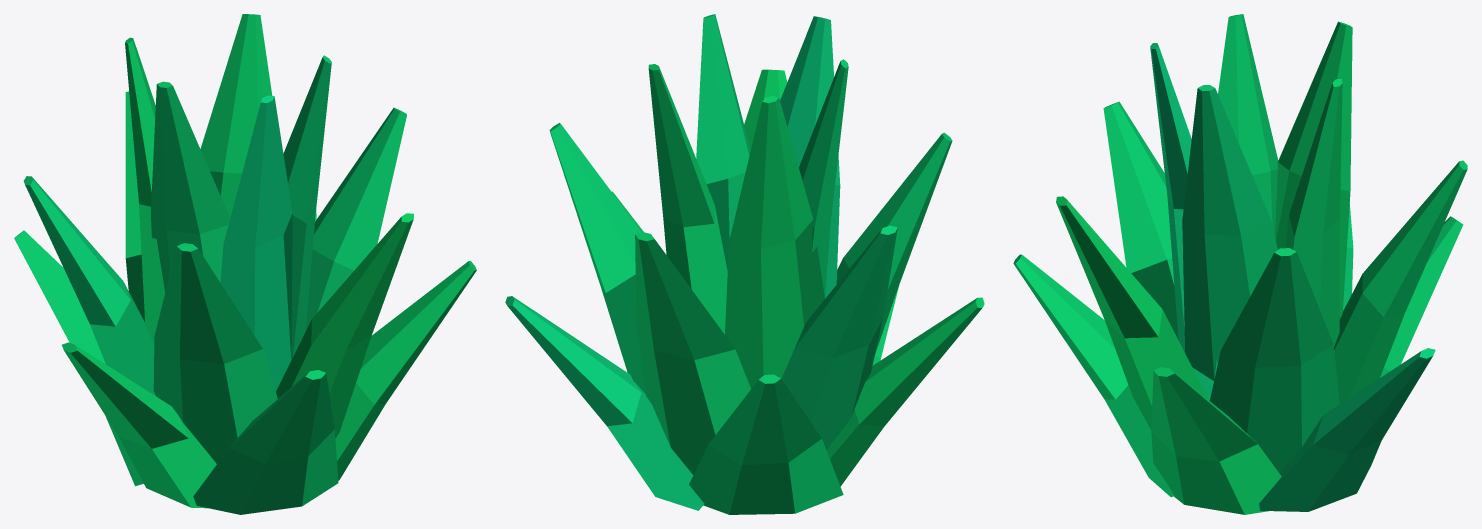
The model's file is succulent.glb.
The picture shows the model from 3 angles, left to right: view 1: azimuth 30°, elevation 25°; view 2: azimuth 150°, elevation 25°; view 3: azimuth 270°, elevation 25°; orthographic projection.
Visible parts, largest first — view 1: Cube.002, Cube.012, Cube.007, Cube.011, Cube.003, Cube.008, Cube.004, Cube.001, Cube.006, Cube.013, Cube.014, Cube.010 (+2 smaller); view 2: Cube.010, Cube, Cube.009, Cube.001, Cube.005, Cube.013, Cube.004, Cube.014, Cube.008, Cube.012, Cube.002, Cube.011 (+1 smaller); view 3: Cube.004, Cube.014, Cube.006, Cube, Cube.005, Cube.003, Cube.002, Cube.013, Cube.007, Cube.010, Cube.011, Cube.012 (+2 smaller).
Boxes of the visible parts, x1,y1,x2,y2 form: Cube.002: [153, 243, 277, 463]; Cube.012: [220, 95, 292, 391]; Cube.007: [193, 370, 338, 514]; Cube.011: [150, 81, 230, 292]; Cube.003: [276, 213, 414, 438]; Cube.008: [62, 342, 216, 508]; Cube.004: [305, 107, 406, 330]; Cube.001: [23, 176, 155, 395]; Cube.006: [335, 260, 476, 480]; Cube.013: [200, 14, 272, 217]; Cube.014: [283, 55, 331, 359]; Cube.010: [125, 37, 164, 343]; Cube.010: [725, 96, 824, 388]; Cube: [635, 232, 750, 474]; Cube.009: [689, 374, 843, 514]; Cube.001: [781, 225, 897, 449]; Cube.005: [505, 296, 704, 510]; Cube.013: [648, 64, 727, 334]; Cube.004: [549, 123, 645, 393]; Cube.014: [696, 14, 750, 270]; Cube.008: [826, 297, 984, 486]; Cube.012: [780, 16, 840, 298]; Cube.002: [836, 132, 952, 354]; Cube.011: [799, 59, 848, 297]; Cube.004: [1209, 248, 1339, 473]; Cube.014: [1182, 85, 1277, 380]; Cube.006: [1151, 367, 1281, 514]; Cube: [1334, 160, 1467, 403]; Cube.005: [1259, 348, 1435, 511]; Cube.003: [1056, 196, 1208, 429]; Cube.002: [1103, 101, 1178, 339]; Cube.013: [1285, 79, 1342, 346]; Cube.007: [1013, 254, 1174, 497]; Cube.010: [1275, 21, 1352, 319]; Cube.011: [1218, 14, 1278, 235]; Cube.012: [1150, 43, 1217, 400].
Bounding box in the file's own units: 1.18 × 1.18 × 1.16.
Materials: 15 (15 with a texture image).
